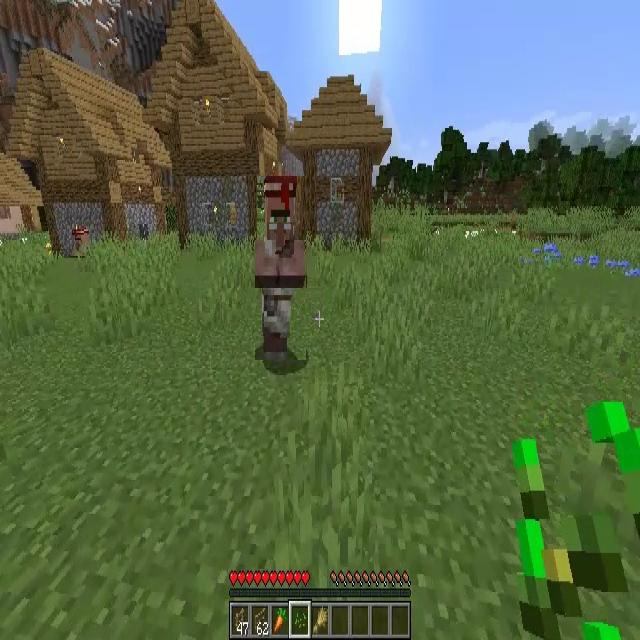people: (255, 176, 306, 360)
